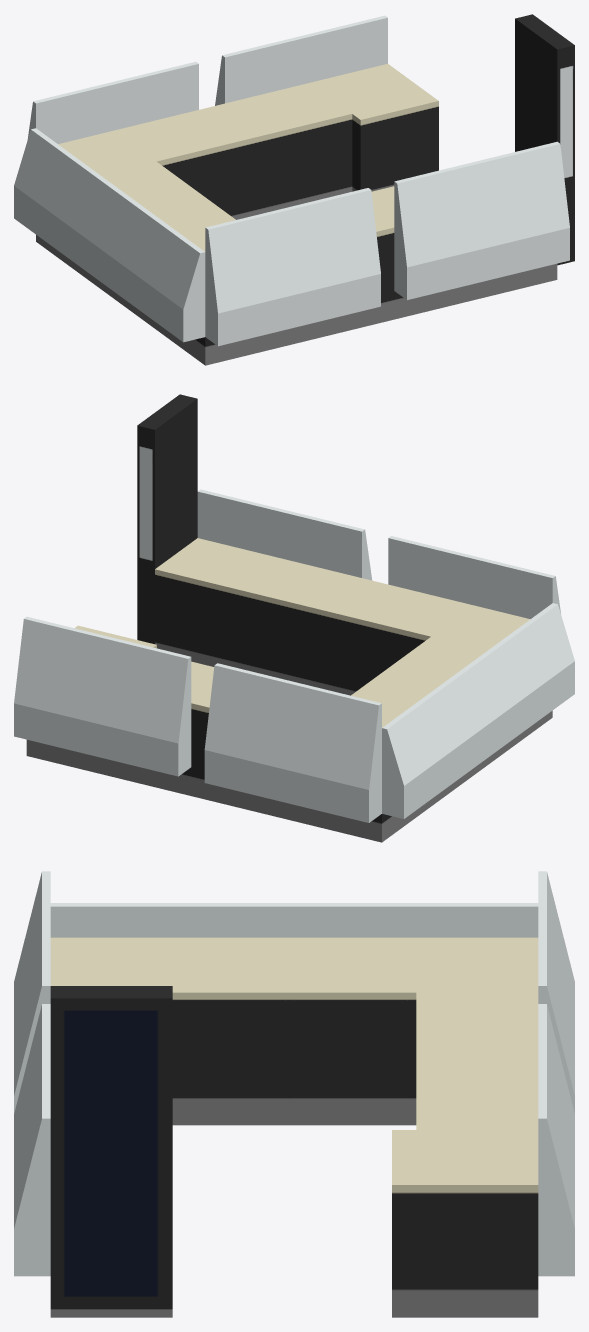
File: Sunglasses_9 1.fbx
3 renders of one model, top to bottom at view 1: azimuth 30°, elevation 25°; view 2: azimuth 150°, elevation 25°; view 3: azimuth 270°, elevation 25°, orthographic. The views are drawn at different scales.
Parts seen in each view (by area): view 1: Center.L, Display.FR, Display.BR, Display.Front, Center_Front, Display.BL, Screen, Display.FL, Center.R; view 2: Center.R, Display.BL, Display.FL, Display.Front, Screen, Center_Front, Display.BR, Display.FR, Center.L; view 3: Center_Front, Center.L, Screen, Display.Front, Display.BR, Display.BL, Display.FL, Display.FR, Center.R.
Part boxes in pixels (x1,y1,x2,y2): Center.L: (114, 64, 438, 219); Display.FR: (205, 188, 380, 346); Display.BR: (394, 141, 569, 299); Display.Front: (14, 128, 205, 342); Center_Front: (36, 130, 283, 365); Display.BL: (215, 15, 387, 105); Screen: (515, 14, 574, 265); Display.FL: (27, 61, 198, 143); Center.R: (283, 186, 557, 346); Center.R: (155, 538, 473, 695); Display.BL: (14, 616, 191, 776); Display.FL: (204, 663, 381, 822); Display.Front: (382, 603, 574, 818); Screen: (137, 394, 197, 644); Center_Front: (303, 605, 552, 842); Display.BR: (197, 489, 372, 580); Display.FR: (388, 536, 561, 618); Center.L: (26, 625, 302, 823); Center_Front: (50, 937, 538, 1125); Center.L: (392, 992, 538, 1317); Screen: (50, 986, 172, 1309); Display.Front: (50, 903, 538, 937); Display.BR: (14, 1004, 50, 1276); Display.BL: (538, 1004, 574, 1276); Display.FL: (538, 871, 574, 1113); Display.FR: (14, 871, 50, 1113); Center.R: (50, 1309, 172, 1317).
Size of the model in its own units: 668 by 375 by 575.
